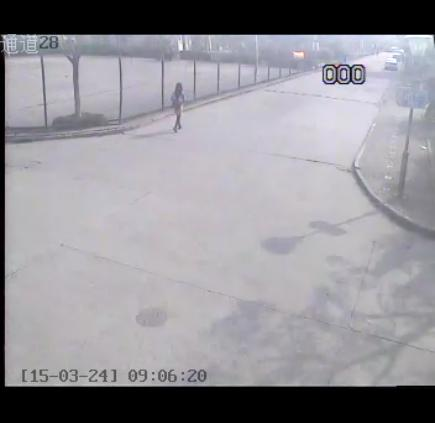person: (159, 77, 191, 141)
